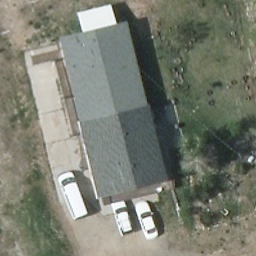car: (133, 201, 160, 241), (110, 201, 133, 235)
van: (57, 171, 89, 220)
